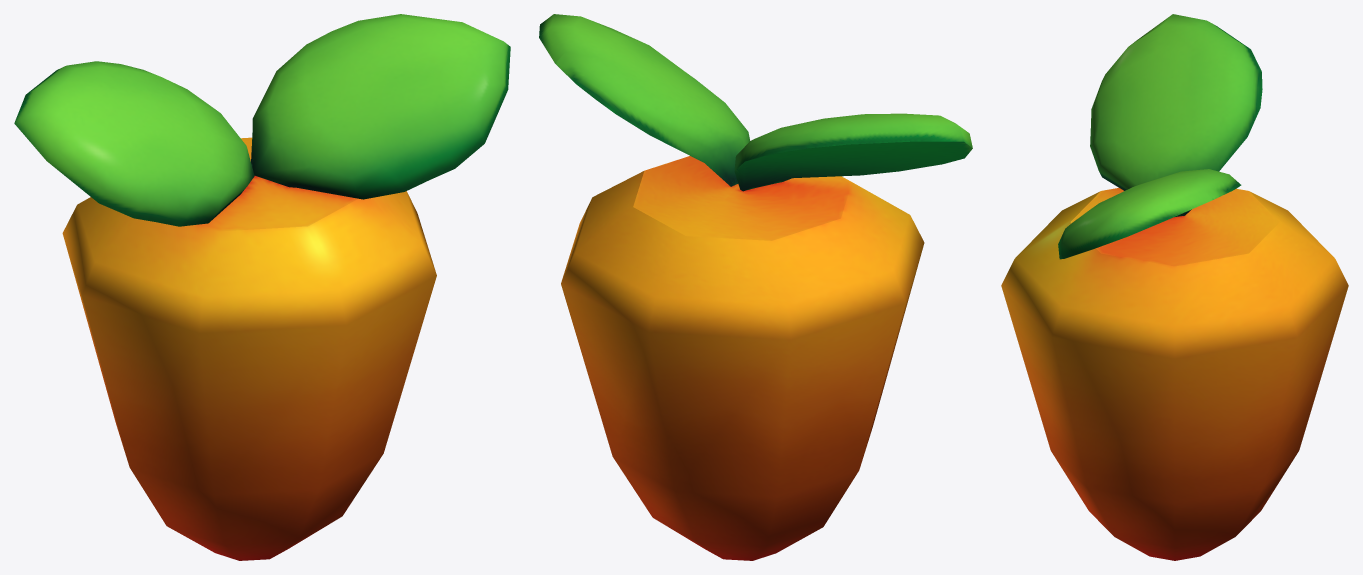
The model's file is Carrot.fbx.
3 views of the same model, side by side, from view 1: azimuth 30°, elevation 25°; view 2: azimuth 150°, elevation 25°; view 3: azimuth 270°, elevation 25° (orthographic). The views are drawn at different scales.
Parts seen in each view (by area): view 1: CarrotSolo, CarrotLeaf; view 2: CarrotSolo, CarrotLeaf; view 3: CarrotSolo, CarrotLeaf.
Boxes of the visible parts, left/top/right/bottom form: CarrotSolo: left=62, top=137, right=436, bottom=560; CarrotLeaf: left=14, top=14, right=510, bottom=226; CarrotSolo: left=561, top=156, right=924, bottom=560; CarrotLeaf: left=539, top=14, right=972, bottom=191; CarrotSolo: left=1001, top=188, right=1348, bottom=560; CarrotLeaf: left=1058, top=14, right=1262, bottom=259.
Size of the model in its own units: 1.04 by 1.07 by 0.7493.
1 material, 1 textured.
